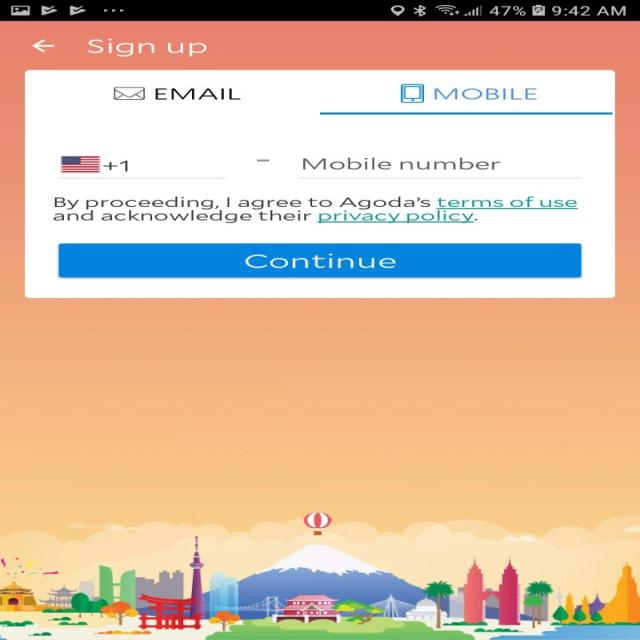BackgroundImage: (0, 21, 639, 639)
EditText: (298, 157, 580, 179), (58, 156, 226, 179)
Icon: (113, 87, 145, 100), (31, 40, 55, 52)
Image: (0, 512, 639, 640), (61, 156, 100, 172), (400, 84, 424, 103)
Text: (53, 196, 578, 223), (302, 157, 499, 170), (86, 38, 206, 57), (434, 88, 537, 100), (155, 88, 241, 100), (102, 160, 128, 172)
TextButton: (58, 243, 580, 278)
